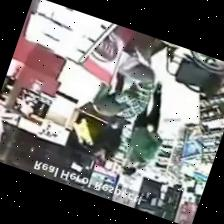person: (123, 84, 162, 174), (113, 55, 155, 120), (92, 70, 126, 116), (82, 125, 122, 164)
